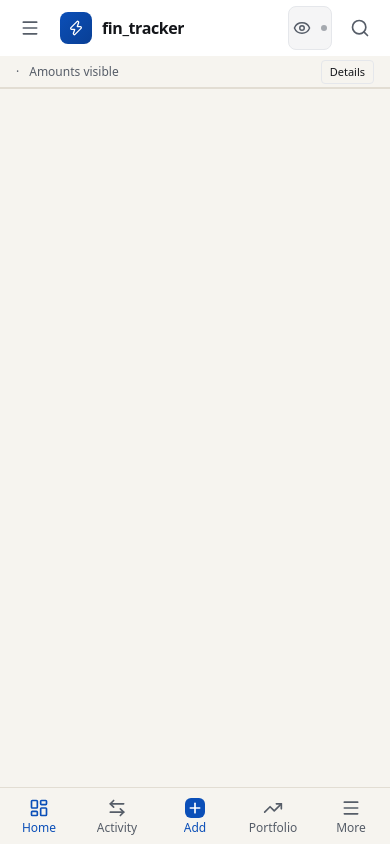
Scenario: M72 mobile navigation drawer › closes on Escape and on a scrim click
Click the button with test id "nav-drawer-toggle". click: (30, 28)
box: [8,6,52,50]
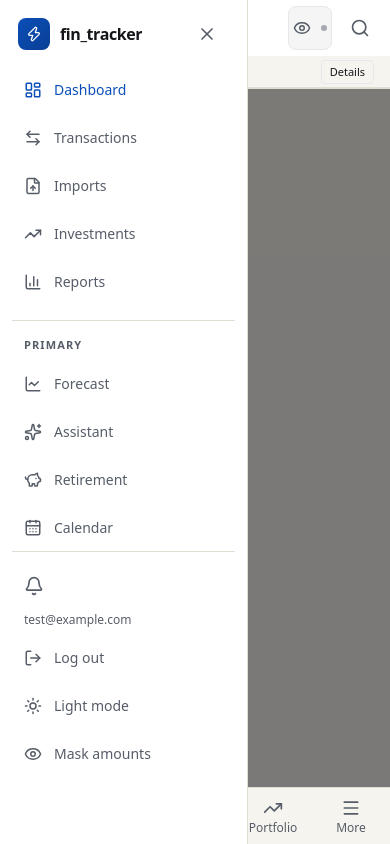
Expected: the button with test id "nav-drawer-toggle" is expanded, [8,6,52,50]
Press Escape
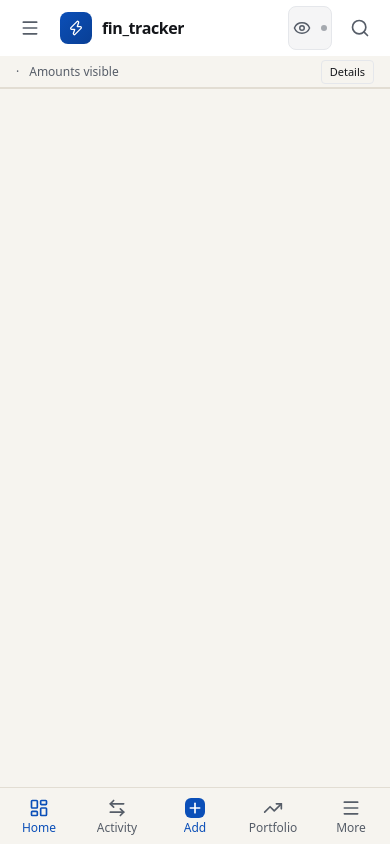
Expected: the button with test id "nav-drawer-toggle" is collapsed
Click the button with test id "nav-drawer-toggle". click: (30, 28)
box: [8,6,52,50]
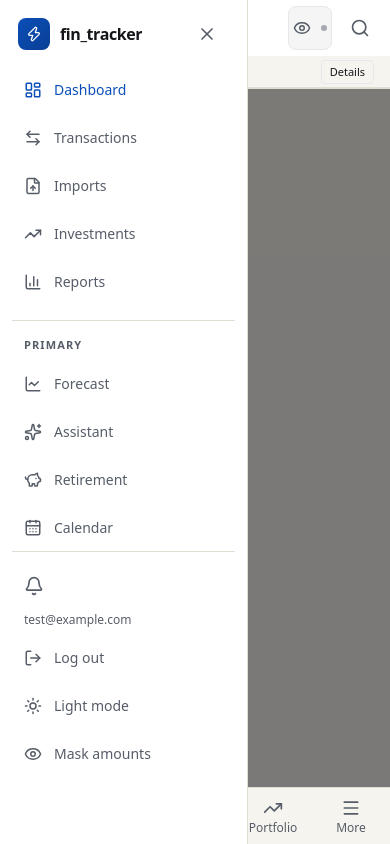
Expected: the button with test id "nav-drawer-toggle" is expanded, [8,6,52,50]
Click the element with test id "nav-scrim". click: (367, 422)
box: [0,0,389,843]
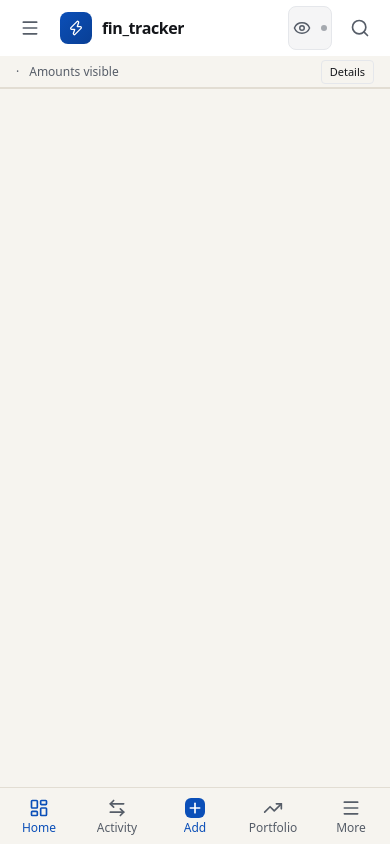
Expected: the button with test id "nav-drawer-toggle" is collapsed, [8,6,52,50]
